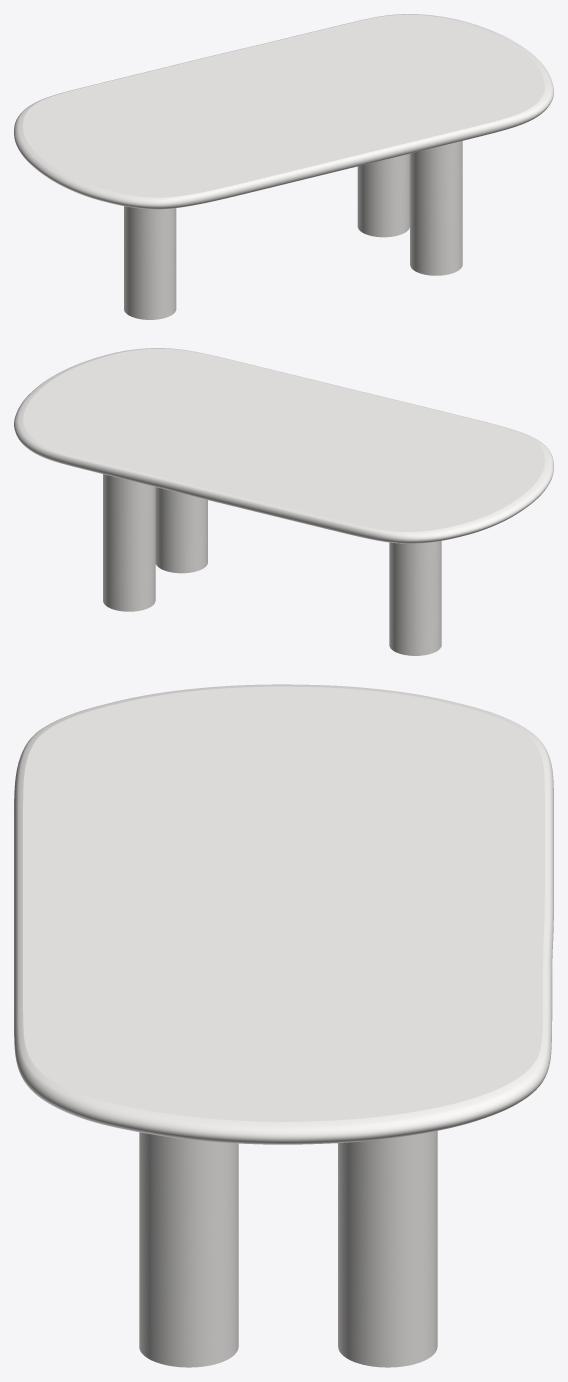
The model's file is purewhite_oval_round_cylinder.glb.
3 renders of one model, top to bottom at view 1: azimuth 30°, elevation 25°; view 2: azimuth 150°, elevation 25°; view 3: azimuth 270°, elevation 25°, orthographic. The views are drawn at different scales.
Visible parts, largest first — view 1: round_oval, cylinder; view 2: round_oval, cylinder; view 3: round_oval, cylinder.
Boxes of the visible parts, x1,y1,x2,y2 form: round_oval: [14, 14, 553, 209]; cylinder: [124, 141, 462, 319]; round_oval: [14, 348, 553, 543]; cylinder: [103, 474, 441, 655]; round_oval: [14, 684, 553, 1144]; cylinder: [139, 1131, 437, 1367].
Bounding box in the file's own units: 7.5 × 2.52 × 3.8.
Materials: 1 (1 with a texture image).
